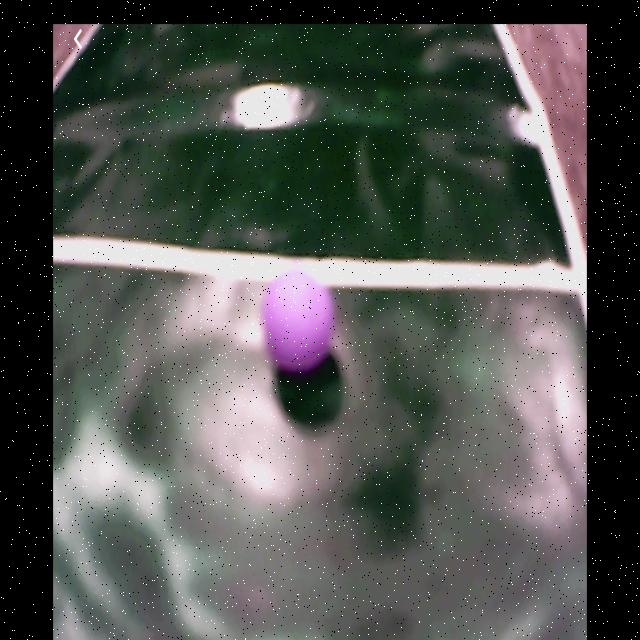ball: (261, 269, 337, 375)
